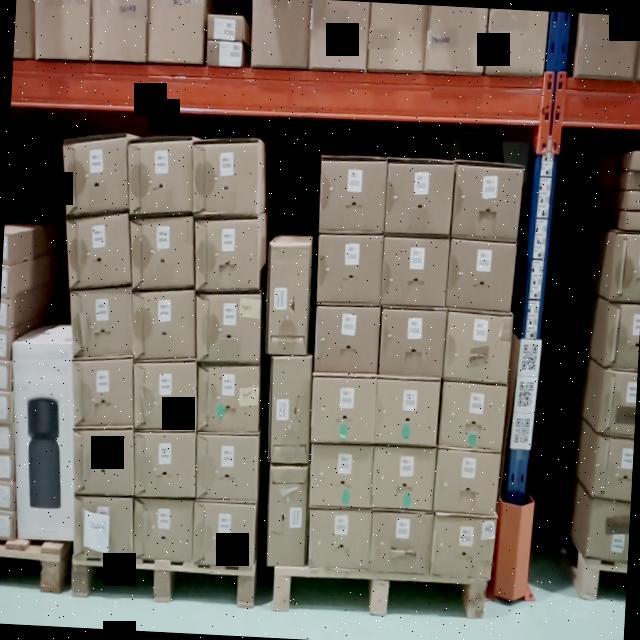box: (14, 339, 72, 542), (191, 142, 263, 220), (384, 164, 454, 244), (192, 362, 263, 438), (264, 353, 314, 459), (266, 246, 314, 354), (192, 294, 264, 366), (125, 144, 192, 221), (380, 239, 451, 309), (124, 215, 196, 284), (322, 162, 388, 237), (191, 220, 261, 290), (311, 302, 380, 373), (191, 436, 263, 504), (134, 286, 198, 362), (448, 244, 516, 314), (439, 384, 506, 455), (454, 169, 520, 240), (72, 489, 134, 564), (130, 500, 197, 569), (62, 148, 134, 212), (444, 309, 511, 376), (432, 510, 495, 581), (318, 239, 384, 306), (384, 308, 446, 379), (134, 428, 196, 498), (70, 424, 134, 491), (70, 358, 137, 422), (310, 441, 374, 506), (66, 228, 130, 292), (266, 469, 308, 566), (372, 447, 436, 510), (70, 298, 134, 361), (376, 381, 439, 444), (193, 506, 253, 572), (316, 379, 375, 446), (434, 455, 501, 512), (372, 507, 433, 569), (135, 364, 194, 427), (306, 511, 368, 562)
